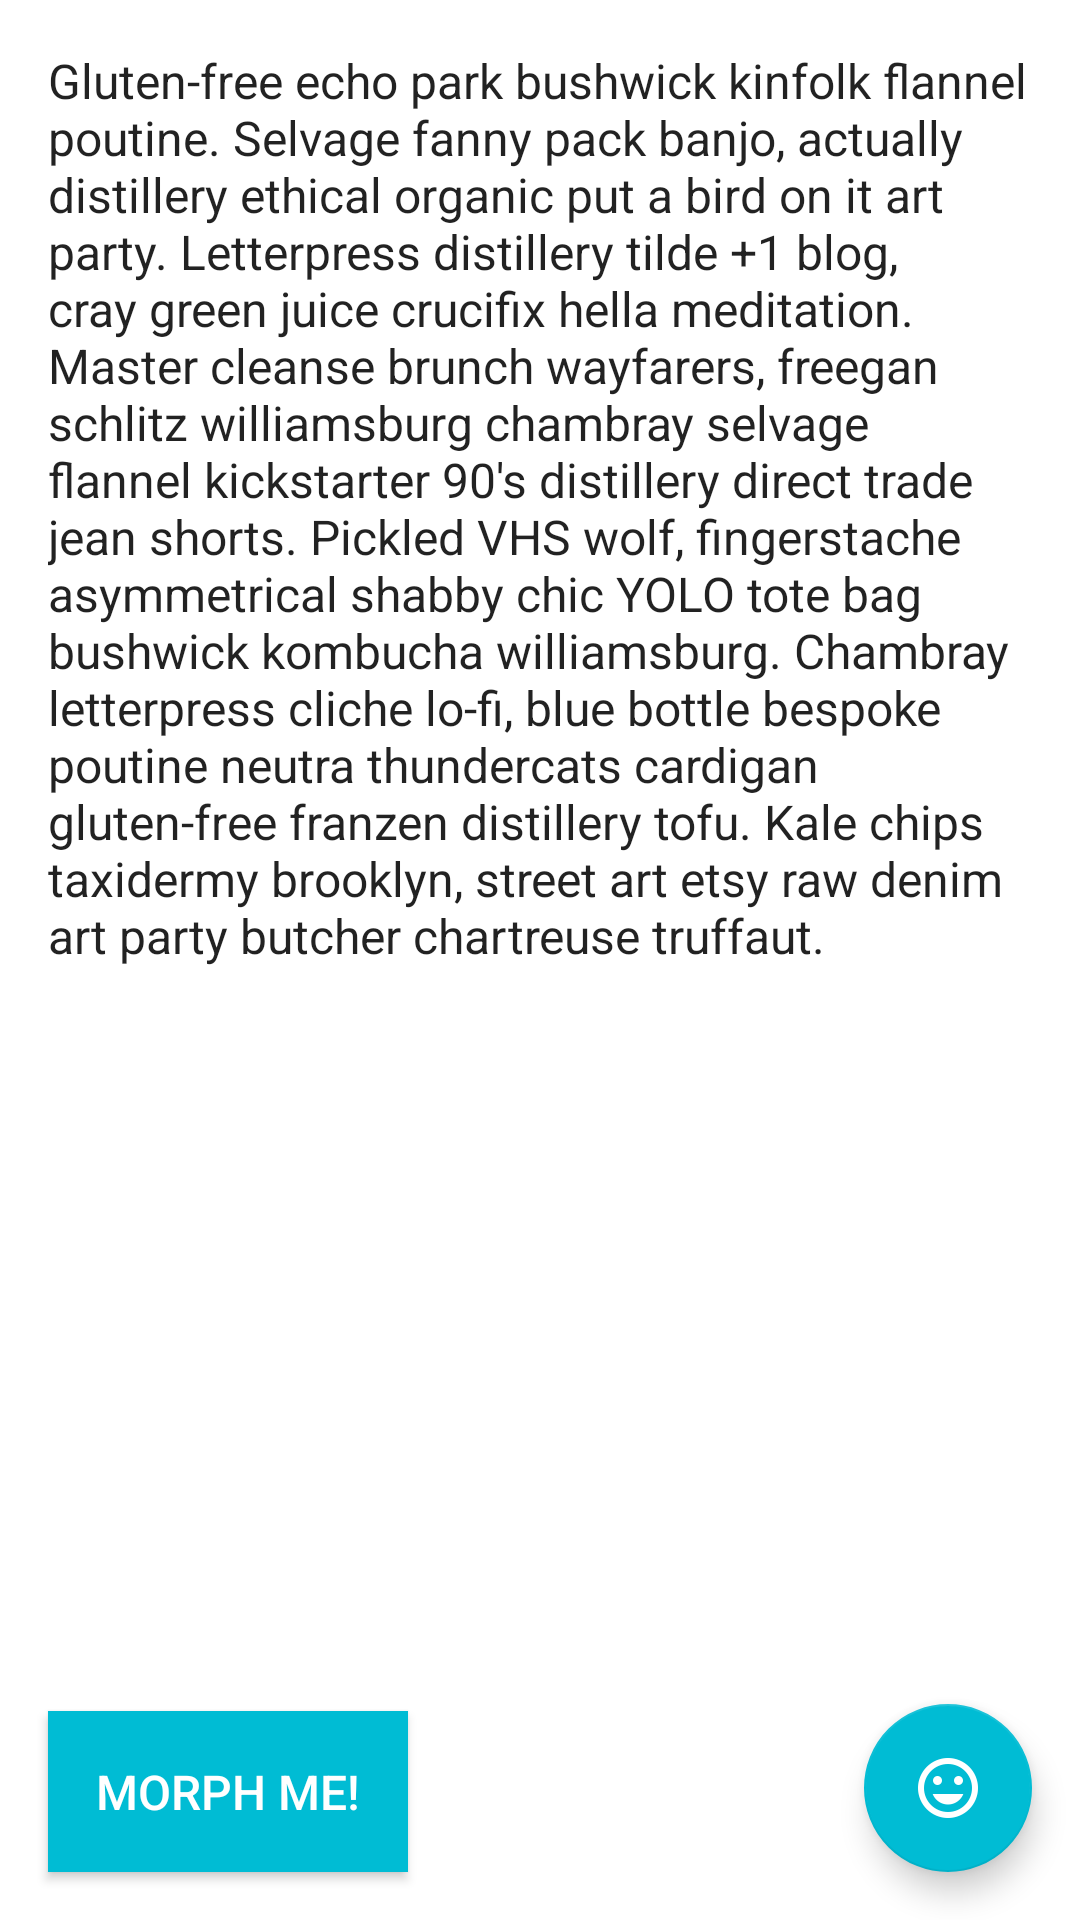

Icons on this 1080x1920 Android screen, each with its box as box=[x1, y1, x2, y2]:
emoticon smile: box=[864, 1704, 1032, 1872]
